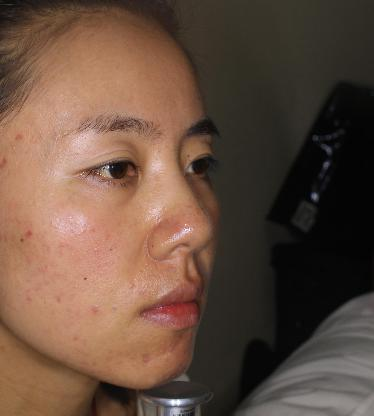Blackheads: (15, 235, 29, 245), (78, 273, 91, 283)
Papules: (21, 222, 41, 239), (86, 301, 102, 319)
acne scar: (11, 126, 32, 146)
